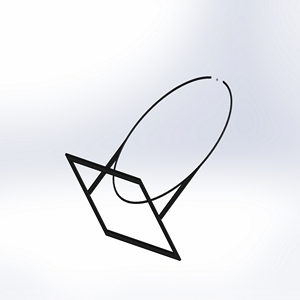circle: (60, 71, 235, 262)
